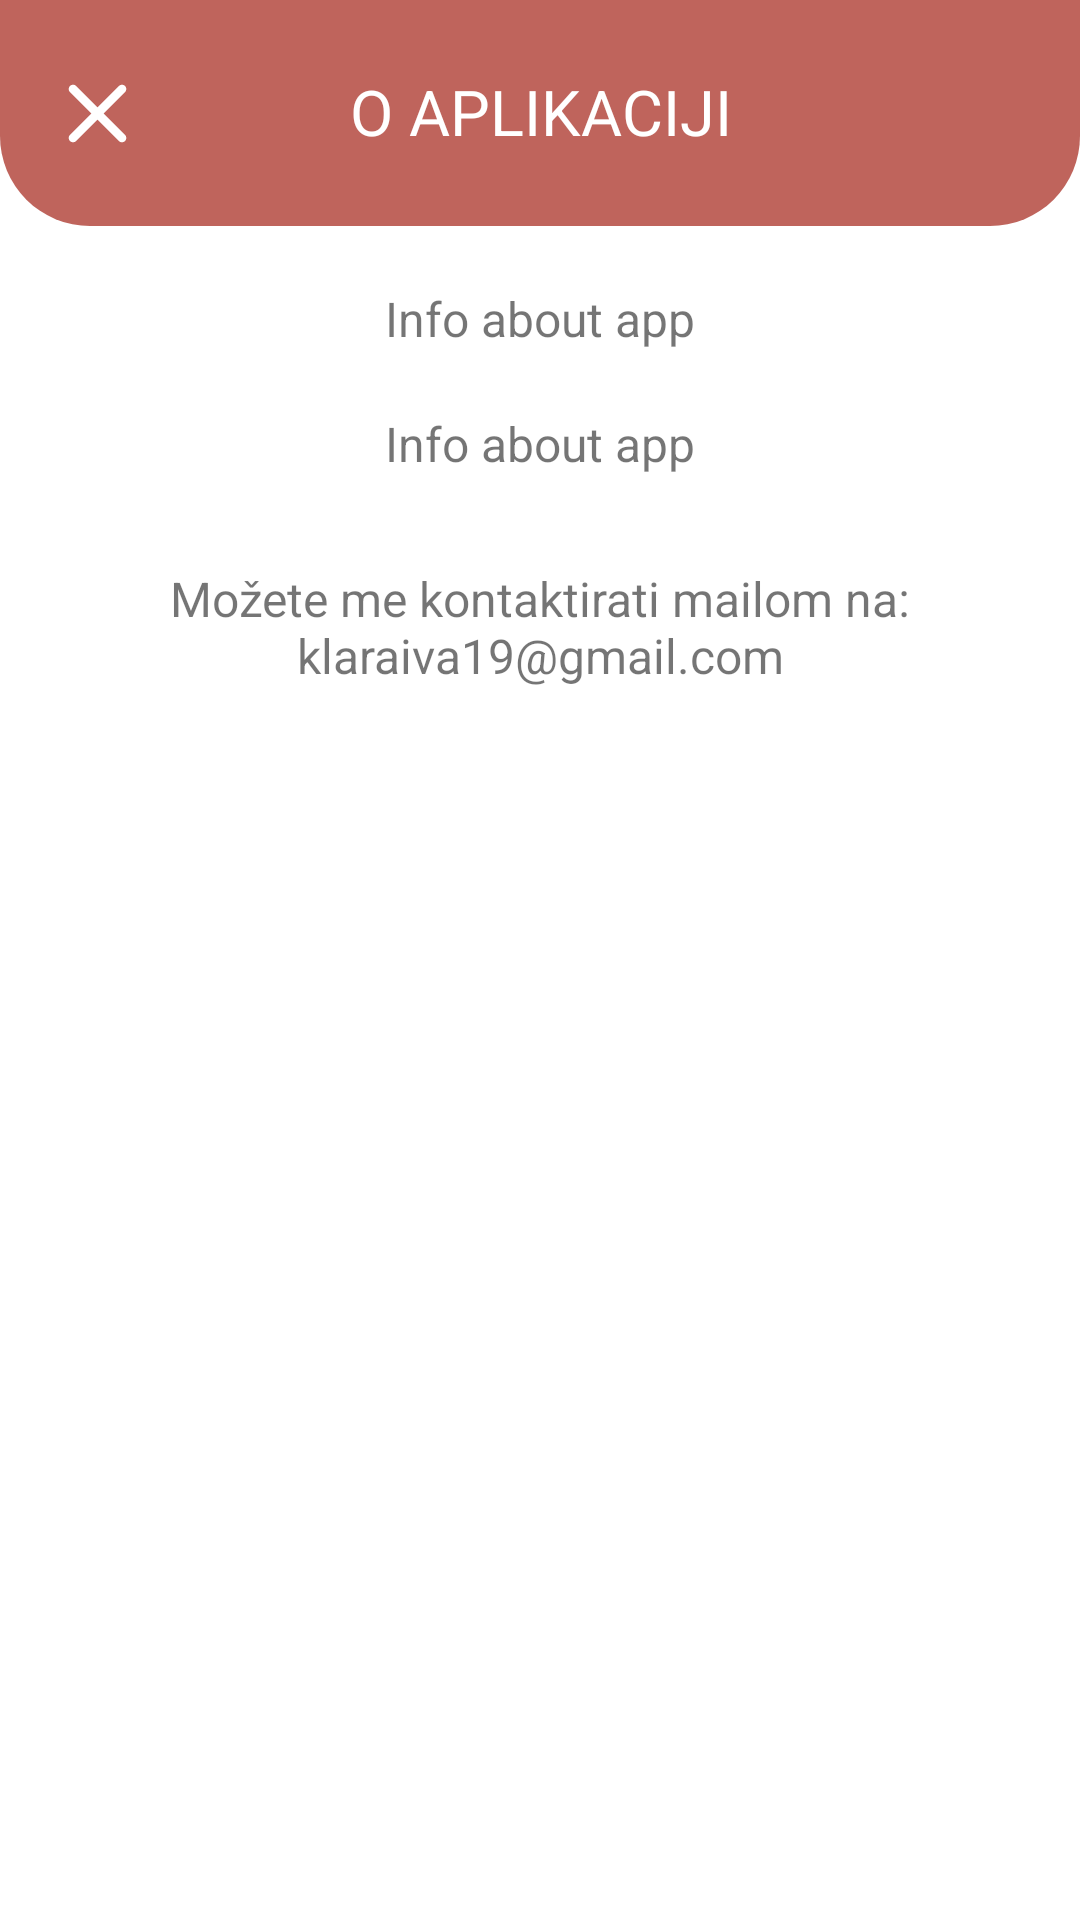

Where icons sit on this 1080w x 1920h app screen, as detection(x1, y1, x2, y2):
close: detection(68, 84, 127, 143)
